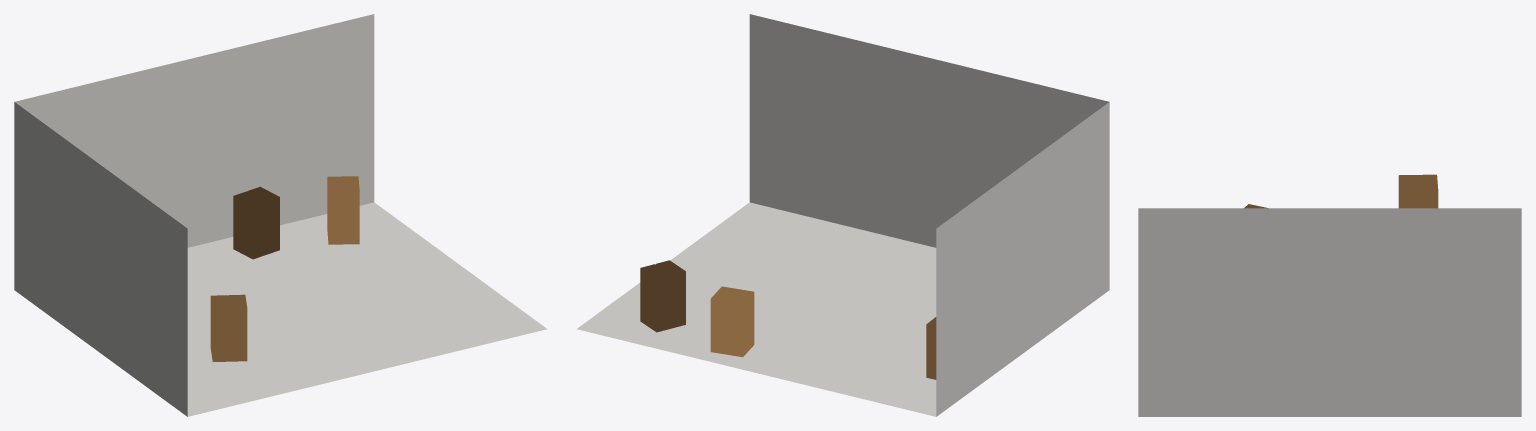
The picture shows the model from 3 angles, left to right: view 1: azimuth 30°, elevation 25°; view 2: azimuth 150°, elevation 25°; view 3: azimuth 270°, elevation 25°; orthographic projection. The views are drawn at different scales.
Visible parts, largest first — view 1: Room, dining_chair_0_mesh, dining_chair_1_mesh, dining_chair_2_mesh; view 2: Room, dining_chair_2_mesh, dining_chair_0_mesh, dining_chair_3_mesh; view 3: Room, dining_chair_3_mesh.
Part boxes in pixels (left/top/right/bottom): Room: left=14, top=14, right=547, bottom=416; dining_chair_0_mesh: left=233, top=186, right=279, bottom=259; dining_chair_1_mesh: left=210, top=294, right=247, bottom=361; dining_chair_2_mesh: left=327, top=176, right=359, bottom=244; Room: left=576, top=14, right=1109, bottom=416; dining_chair_2_mesh: left=640, top=260, right=685, bottom=332; dining_chair_0_mesh: left=710, top=286, right=754, bottom=357; dining_chair_3_mesh: left=926, top=317, right=936, bottom=379; Room: left=1138, top=208, right=1521, bottom=416; dining_chair_3_mesh: left=1398, top=174, right=1438, bottom=208.
Bounding box in the file's own units: 6 × 3 × 5.
